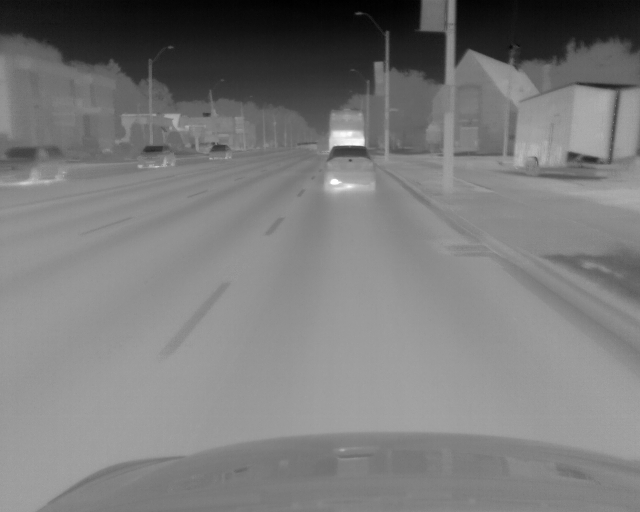car: (1, 146, 70, 186), (325, 144, 375, 191), (328, 108, 365, 155), (136, 144, 176, 170), (209, 143, 231, 160)
